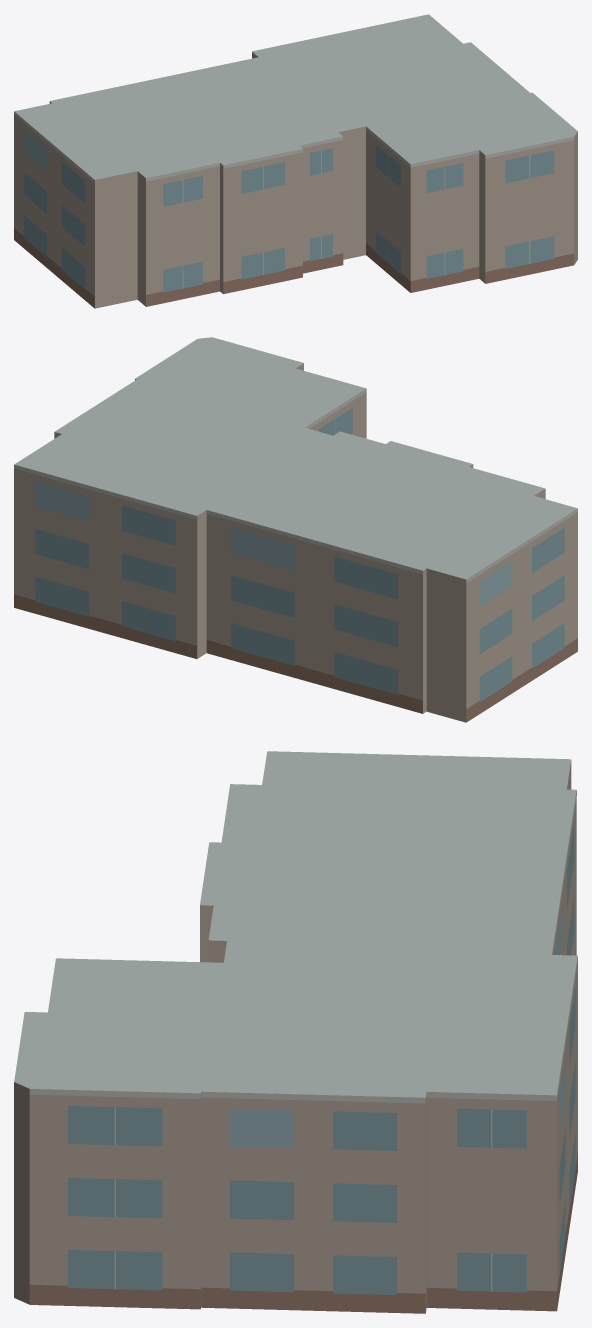
The model's file is survey-upis-32832335.glb.
3 views of the same model, one above another, from view 1: azimuth 30°, elevation 25°; view 2: azimuth 150°, elevation 25°; view 3: azimuth 270°, elevation 25° (orthographic). The views are drawn at different scales.
Visible parts, largest first — view 1: survey-upis-32832335.tmp; view 2: survey-upis-32832335.tmp; view 3: survey-upis-32832335.tmp.
Part boxes in pixels (box(x1,y1,x2,y2)): survey-upis-32832335.tmp: box(14, 14, 577, 308); survey-upis-32832335.tmp: box(14, 337, 577, 722); survey-upis-32832335.tmp: box(14, 751, 577, 1313).
Bounding box in the file's own units: 31.5 × 9.15 × 21.66.
